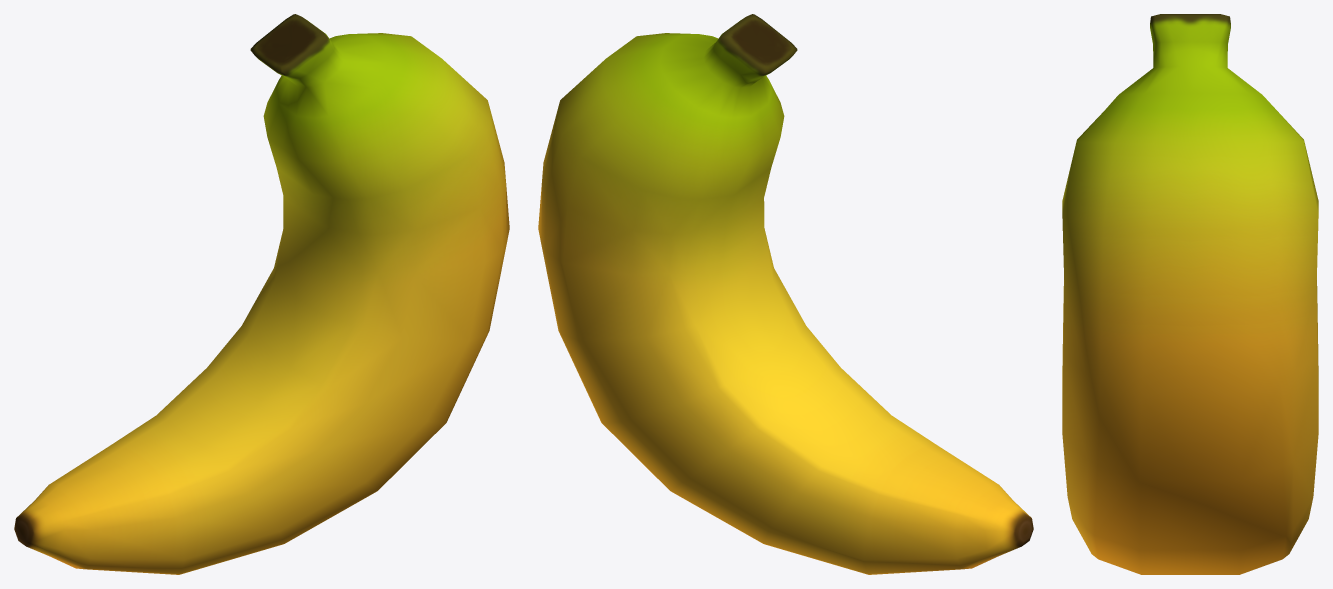
The model's file is Banana.obj.
The picture shows the model from 3 angles, left to right: view 1: azimuth 30°, elevation 25°; view 2: azimuth 150°, elevation 25°; view 3: azimuth 270°, elevation 25°; orthographic projection. The views are drawn at different scales.
Parts seen in each view (by area): view 1: Banana_Untitled; view 2: Banana_Untitled; view 3: Banana_Untitled.
Part boxes in pixels (x1,y1,x2,y2): Banana_Untitled: [14, 14, 509, 574]; Banana_Untitled: [538, 14, 1033, 574]; Banana_Untitled: [1062, 14, 1318, 574].
Size of the model in its own units: 1.28 by 1.3 by 0.5103.
1 material, 1 textured.
